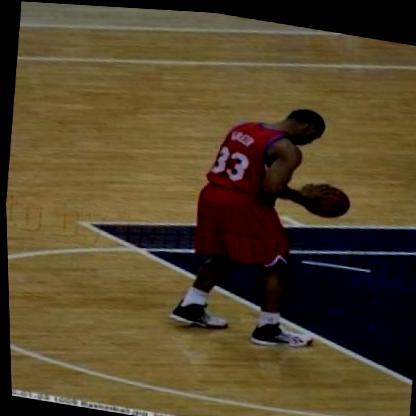basketball: (297, 173, 353, 221)
